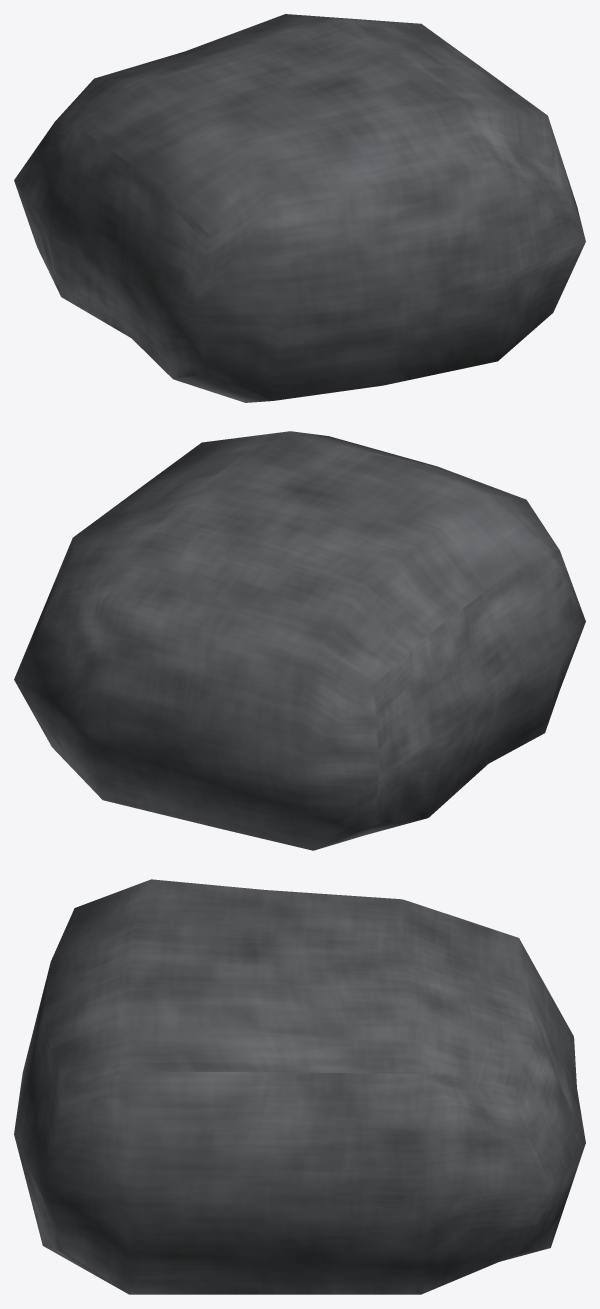
File: Steen 10.fbx
3 renders of one model, top to bottom at view 1: azimuth 30°, elevation 25°; view 2: azimuth 150°, elevation 25°; view 3: azimuth 270°, elevation 25°, orthographic. The views are drawn at different scales.
Visible parts, largest first — view 1: pCube10; view 2: pCube10; view 3: pCube10.
Boxes of the visible parts, x1=… form: pCube10: x1=14, y1=14, x2=585, y2=402; pCube10: x1=14, y1=431, x2=585, y2=850; pCube10: x1=14, y1=879, x2=585, y2=1294.
Bounding box in the file's own units: 1.07 × 0.653 × 1.14.
